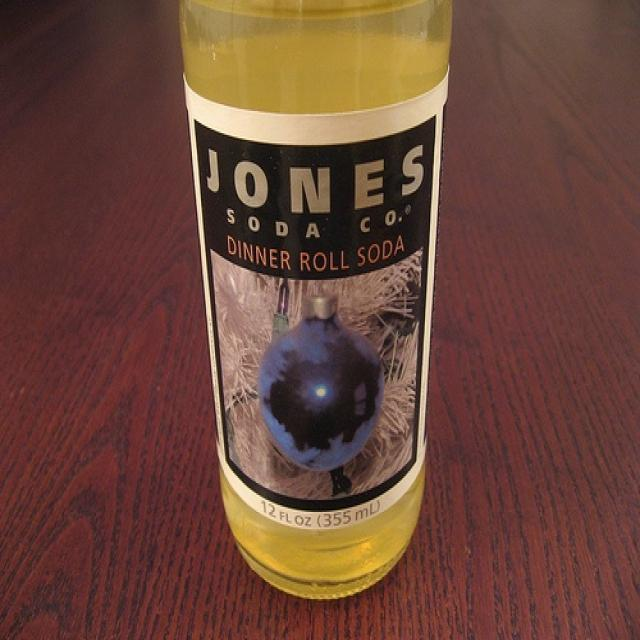bottle: (177, 2, 457, 604)
